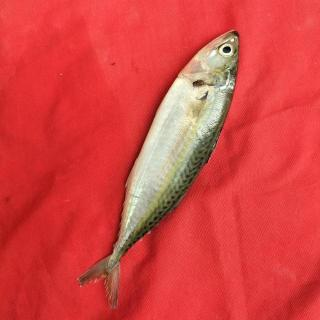Ikan: (74, 14, 244, 317)
